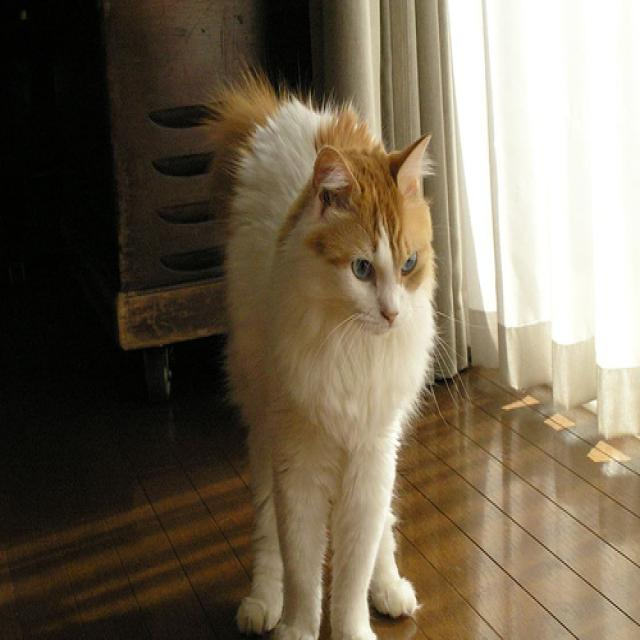left eye: (398, 248, 419, 276)
